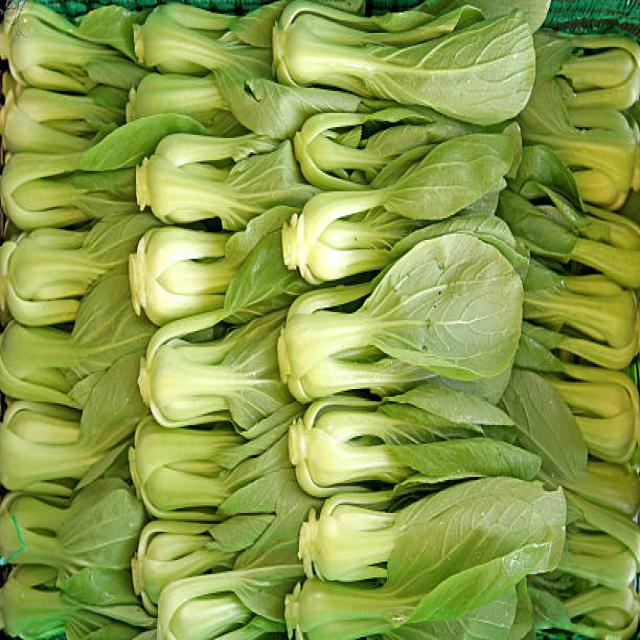Bok Choy: (282, 0, 528, 106), (276, 294, 519, 388), (116, 225, 281, 338), (282, 188, 519, 264), (312, 496, 540, 567), (298, 574, 542, 640), (300, 414, 547, 479), (134, 338, 284, 416), (145, 435, 304, 502), (143, 10, 267, 91), (142, 143, 272, 219), (5, 334, 134, 408), (0, 562, 132, 634), (544, 200, 640, 295), (0, 158, 143, 217), (18, 16, 122, 87), (0, 426, 134, 480), (0, 496, 139, 546), (542, 297, 640, 367), (558, 104, 638, 189), (166, 585, 286, 640), (17, 237, 110, 302), (0, 94, 109, 149), (152, 527, 307, 565), (575, 388, 637, 463), (577, 509, 638, 572), (570, 586, 640, 638)
